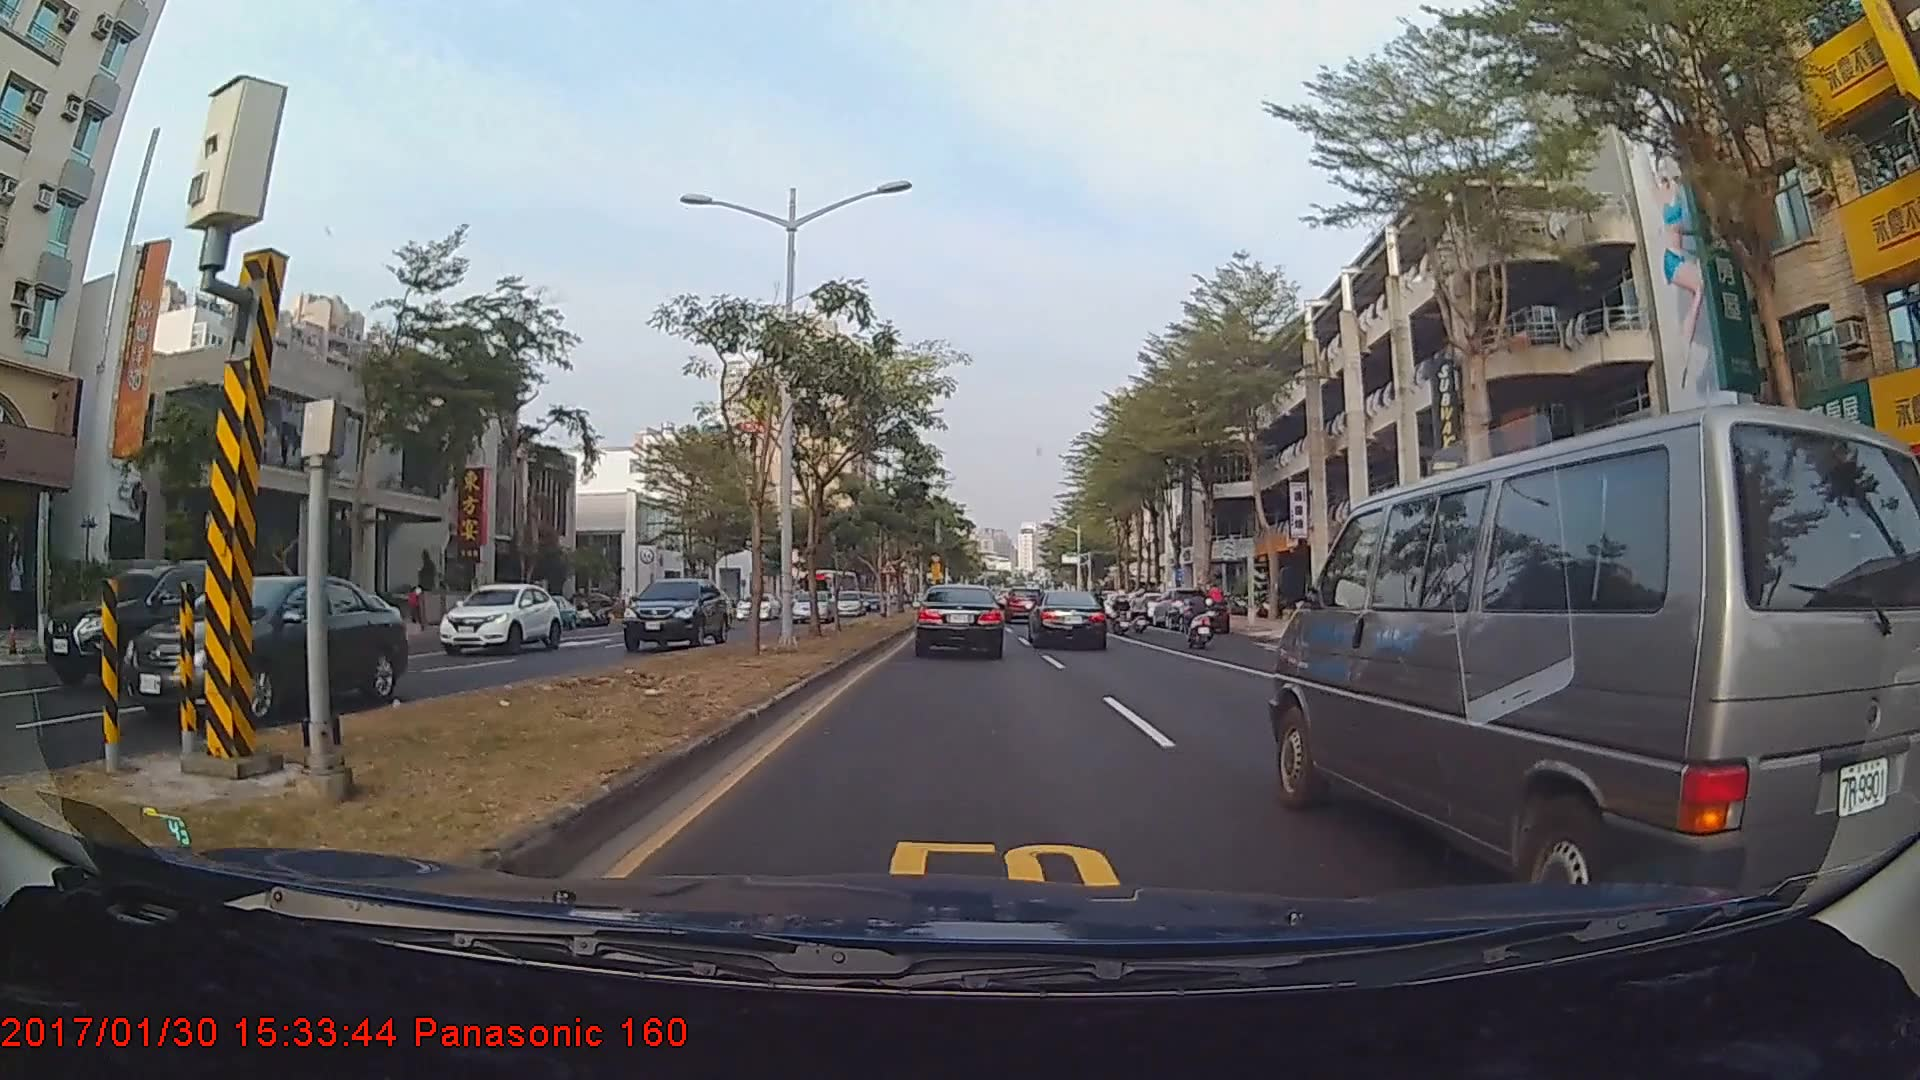rider: (1179, 582, 1217, 650), (1128, 588, 1158, 638)
vehicle: (1263, 405, 1893, 914), (116, 572, 410, 729), (43, 557, 260, 689), (436, 579, 560, 653), (618, 575, 725, 651), (915, 580, 1004, 658), (1030, 588, 1108, 650), (1161, 595, 1228, 634), (790, 590, 834, 625), (1004, 582, 1042, 616), (733, 591, 779, 619), (829, 586, 867, 616)
